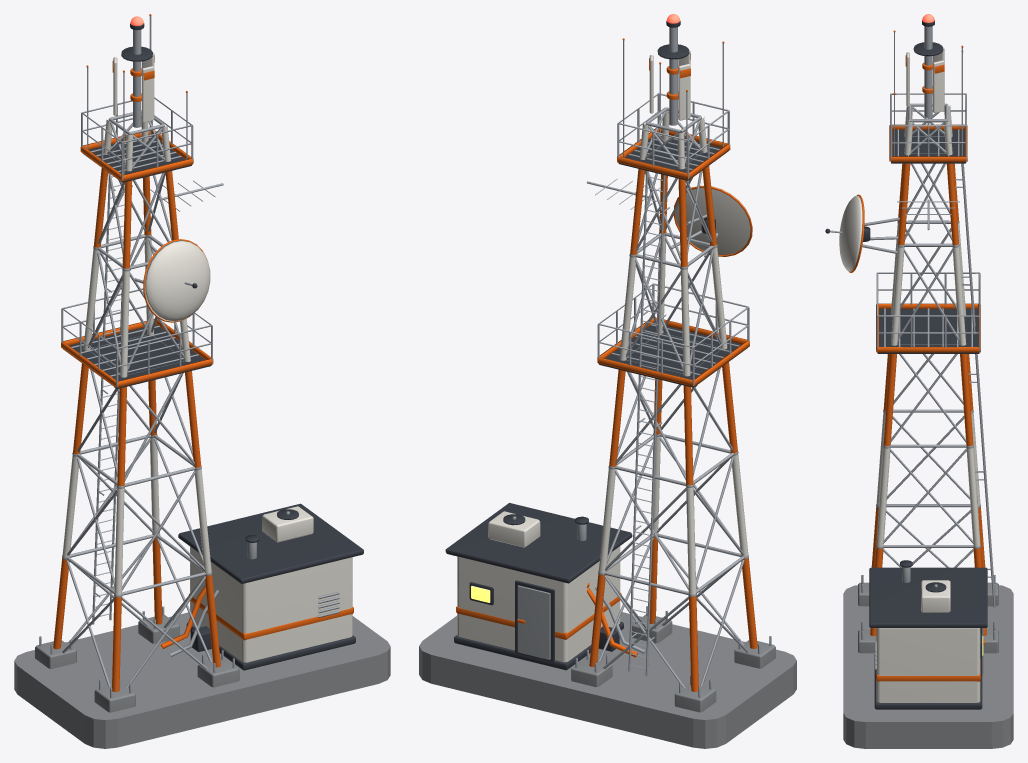
The model's file is outpost_tower.glb.
3 views of the same model, side by side, from view 1: azimuth 30°, elevation 25°; view 2: azimuth 150°, elevation 25°; view 3: azimuth 270°, elevation 25° (orthographic). The views are drawn at different scales.
Visible parts, largest first — view 1: Body; view 2: Body; view 3: Body.
Boxes of the visible parts, bbox=[...] form: Body: bbox=[14, 14, 390, 748]; Body: bbox=[419, 20, 796, 748]; Body: bbox=[825, 20, 1013, 748].
Size of the model in its own units: 8.8 by 18.93 by 5.09.
